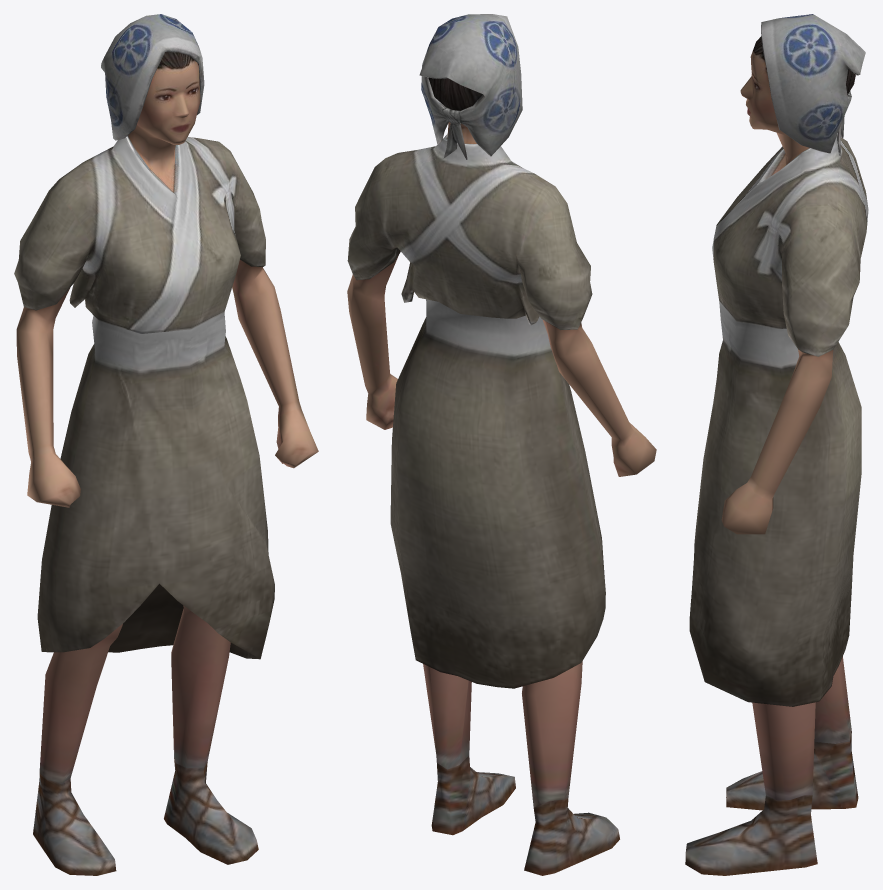
Rendered from body-female-base.glb.
3 views of the same model, side by side, from view 1: azimuth 30°, elevation 25°; view 2: azimuth 150°, elevation 25°; view 3: azimuth 270°, elevation 25° (orthographic). The views are drawn at different scales.
Size of the model in its own units: 0.7456 by 2.07 by 0.4151.
1 material, 1 textured.
